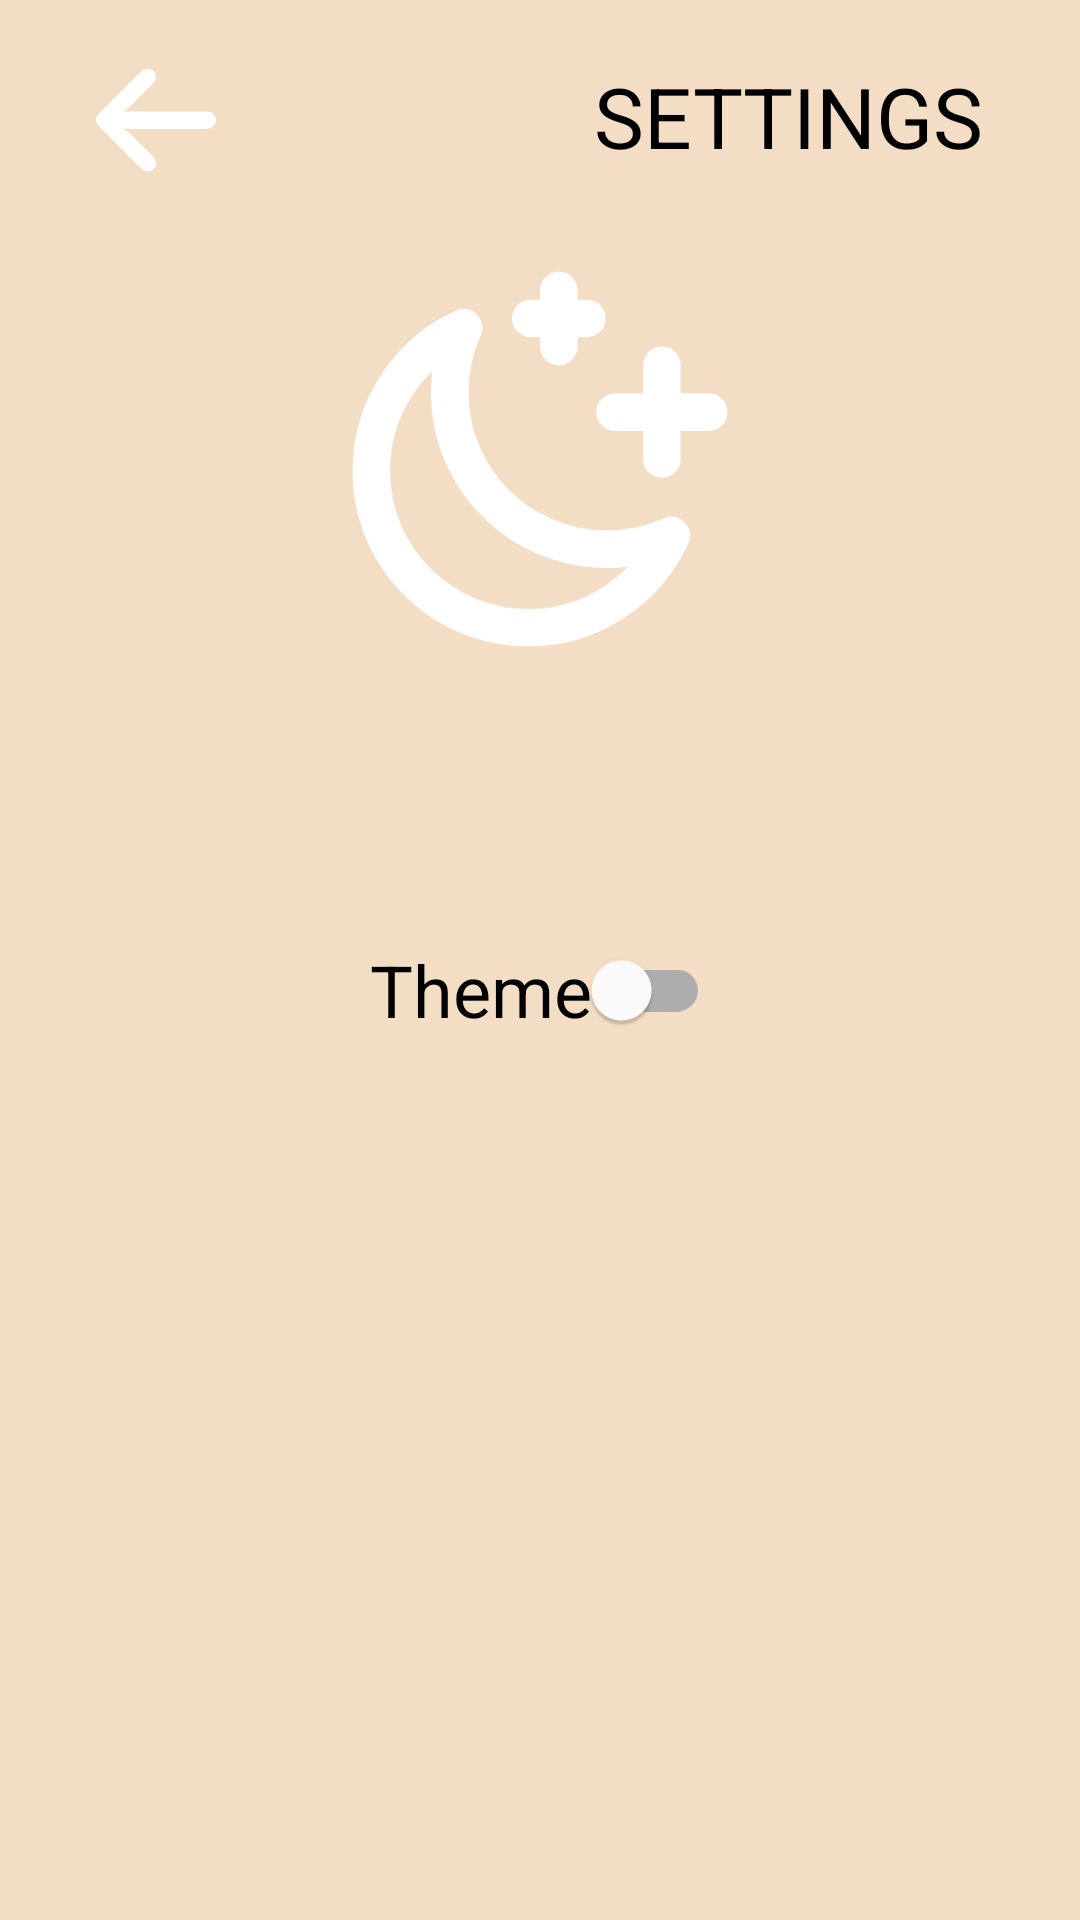

Icons on this 1080px x 1920px Android screen, each with the point to tap as (x=x, y=y):
back arrow: (x=156, y=120)
